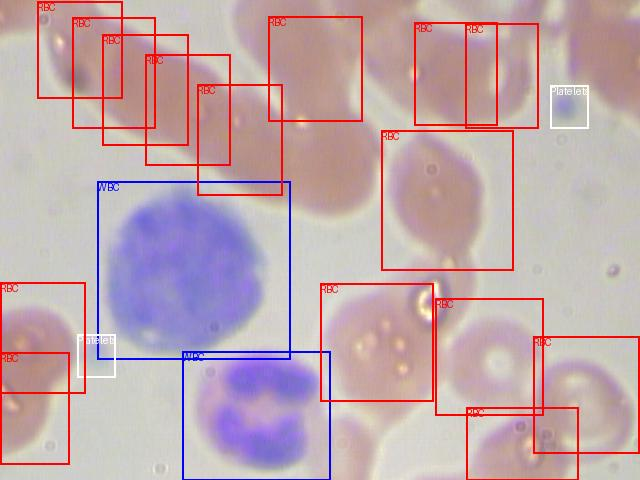Platelets: (77, 334, 115, 377), (550, 85, 588, 128)
RBC: (381, 130, 513, 270), (320, 283, 433, 401), (435, 298, 543, 415), (533, 336, 639, 453), (268, 16, 362, 121), (102, 34, 188, 145), (145, 54, 230, 165), (197, 84, 282, 195), (0, 282, 85, 393), (72, 17, 155, 128), (414, 22, 497, 125), (37, 1, 122, 98), (466, 407, 578, 480), (0, 352, 69, 464), (465, 23, 538, 128)
WBC: (97, 181, 290, 359), (182, 351, 330, 480)
